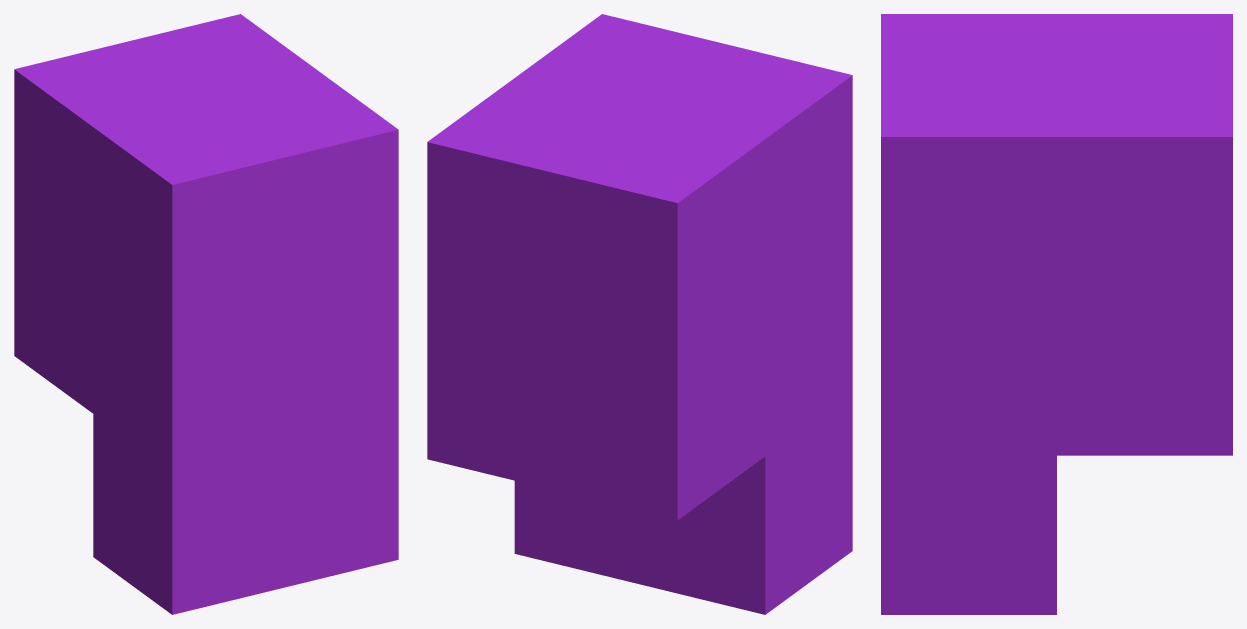
File: Puzzle_Piece01.fbx
3 views of the same model, side by side, from view 1: azimuth 30°, elevation 25°; view 2: azimuth 150°, elevation 25°; view 3: azimuth 270°, elevation 25° (orthographic). The views are drawn at different scales.
Parts seen in each view (by area): view 1: Cube; view 2: Cube; view 3: Cube.
Boxes of the visible parts, x1,y1,x2,y2 form: Cube: (14, 14, 398, 614); Cube: (427, 14, 852, 614); Cube: (881, 14, 1232, 614).
Size of the model in its own units: 331 by 600 by 400.
